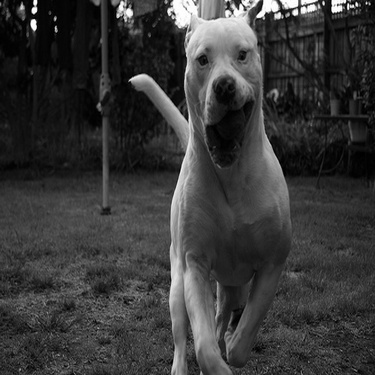dog: (90, 1, 296, 374)
